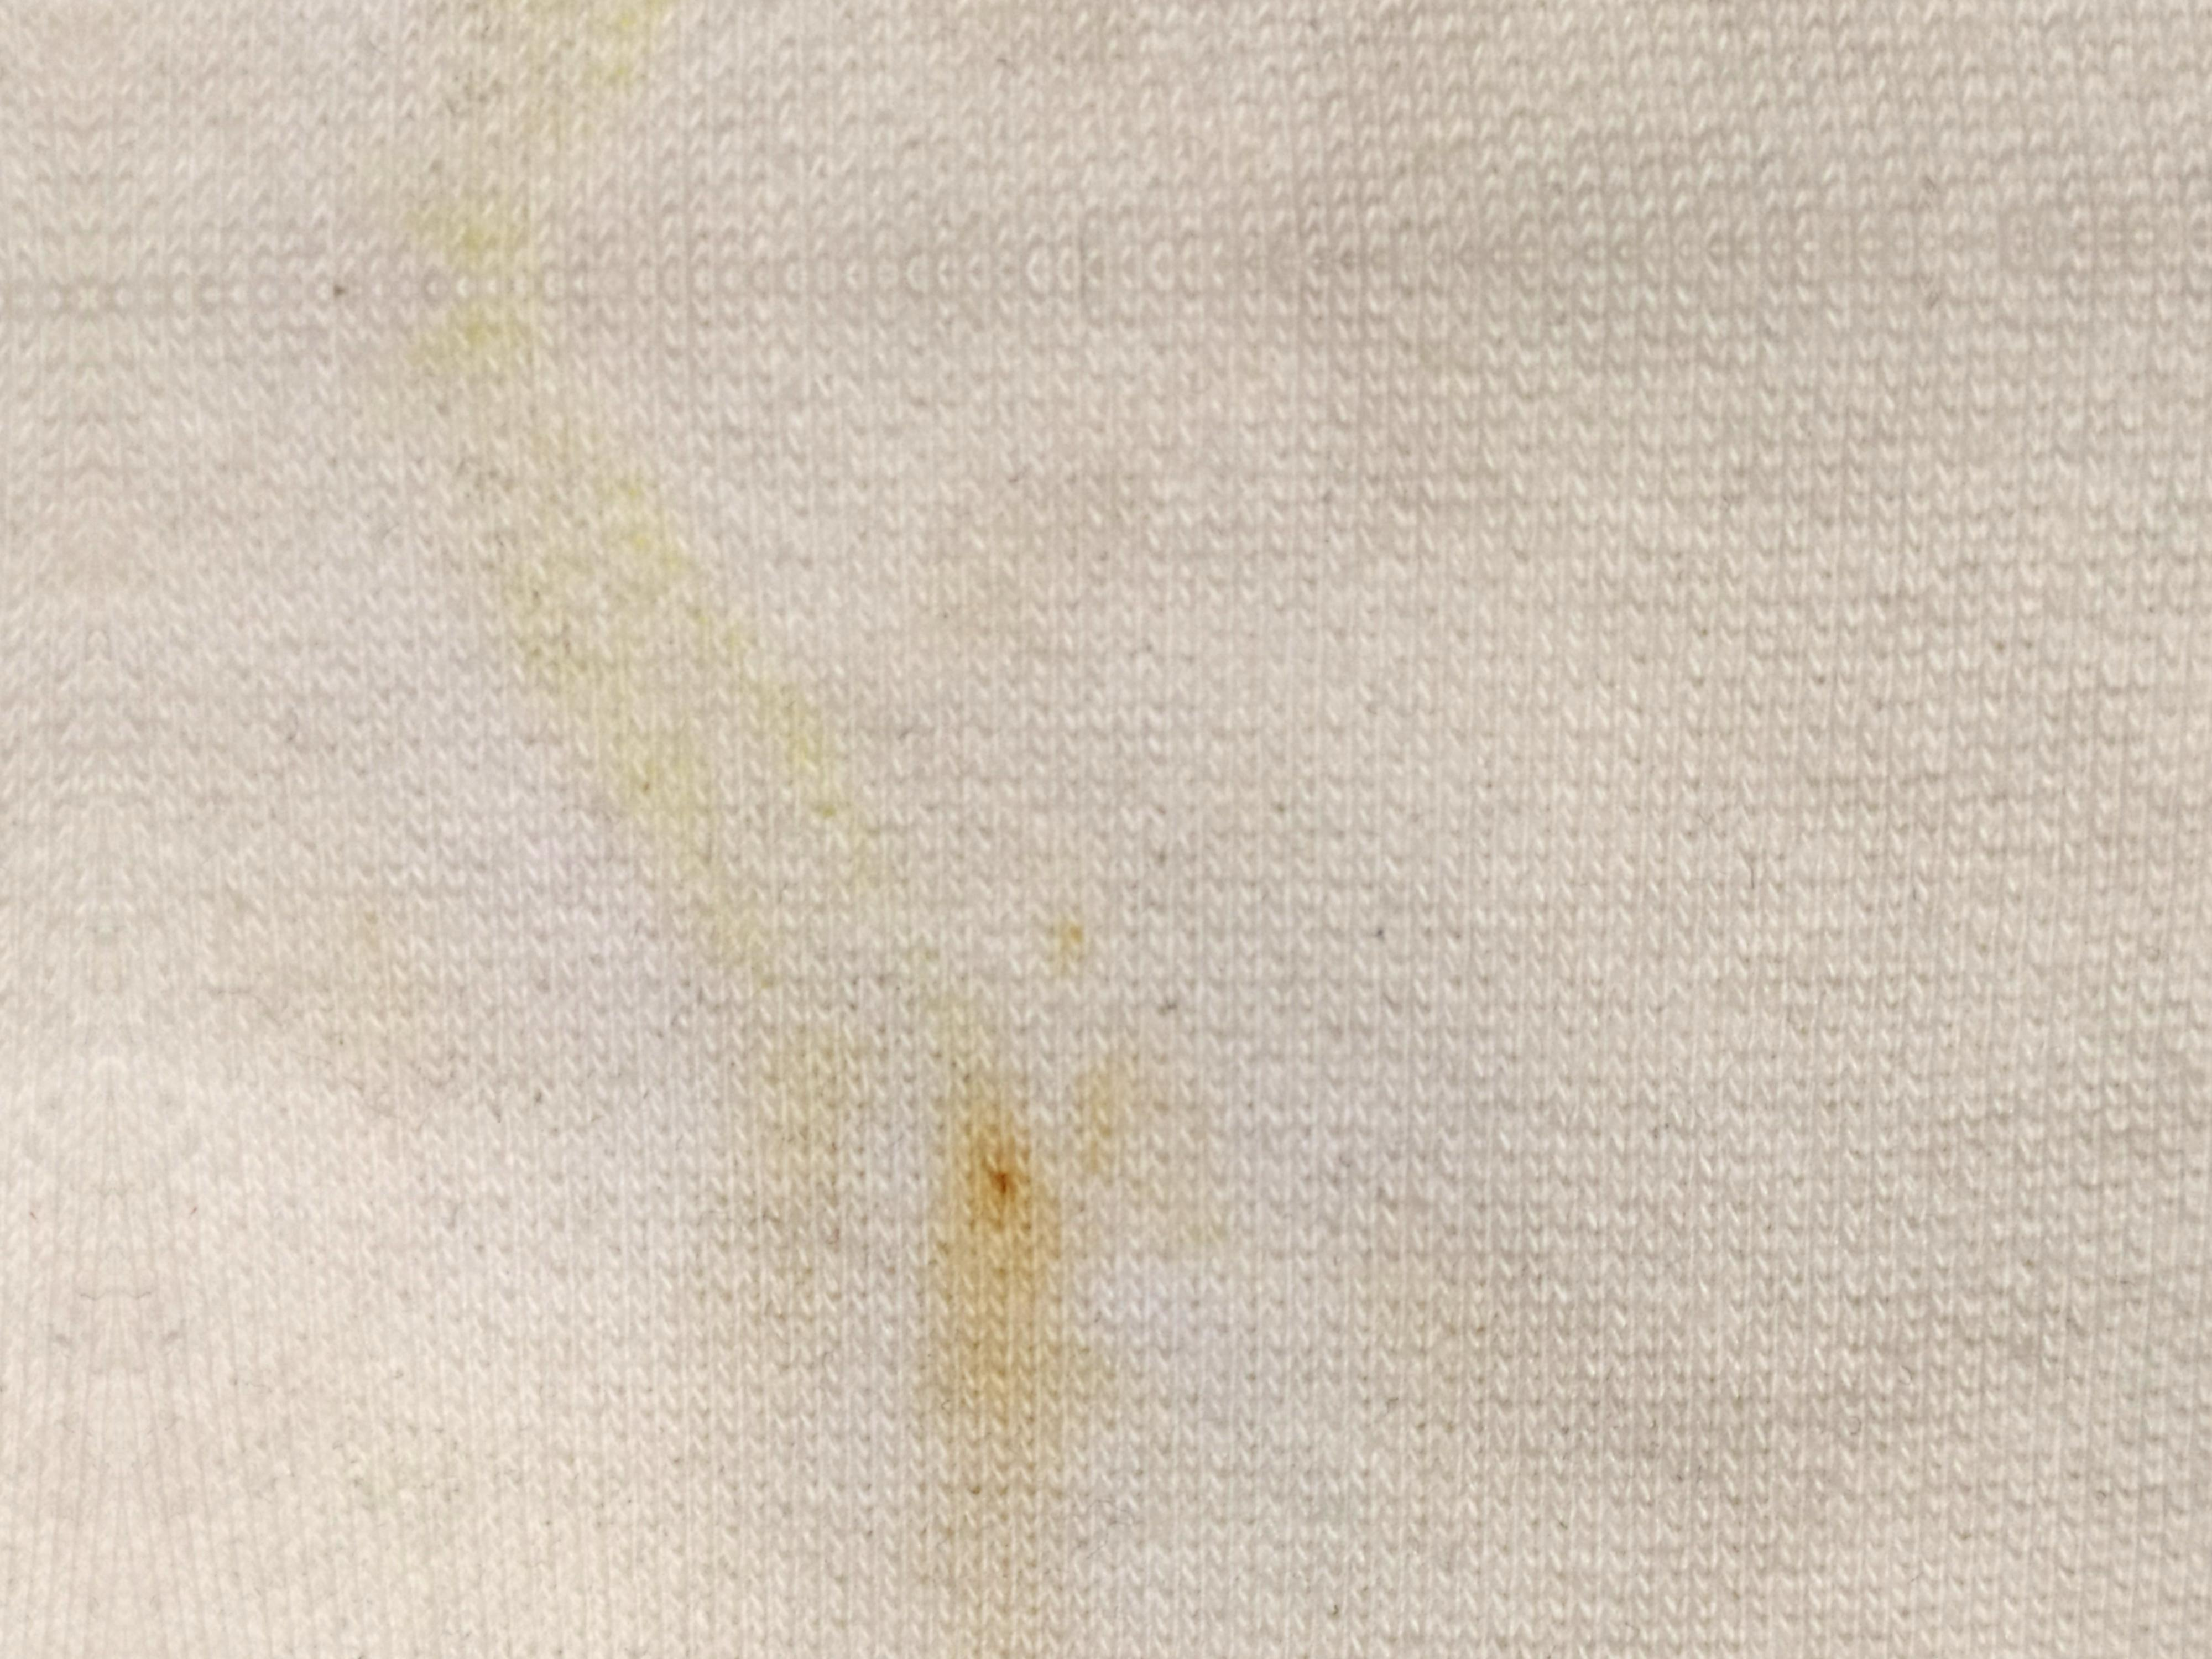stain: (939, 1042, 1097, 1352)
